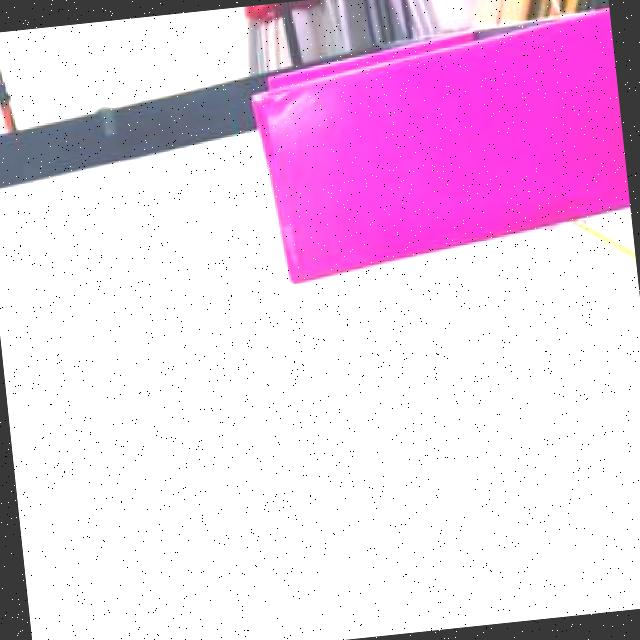xparking: (256, 52, 632, 273)
